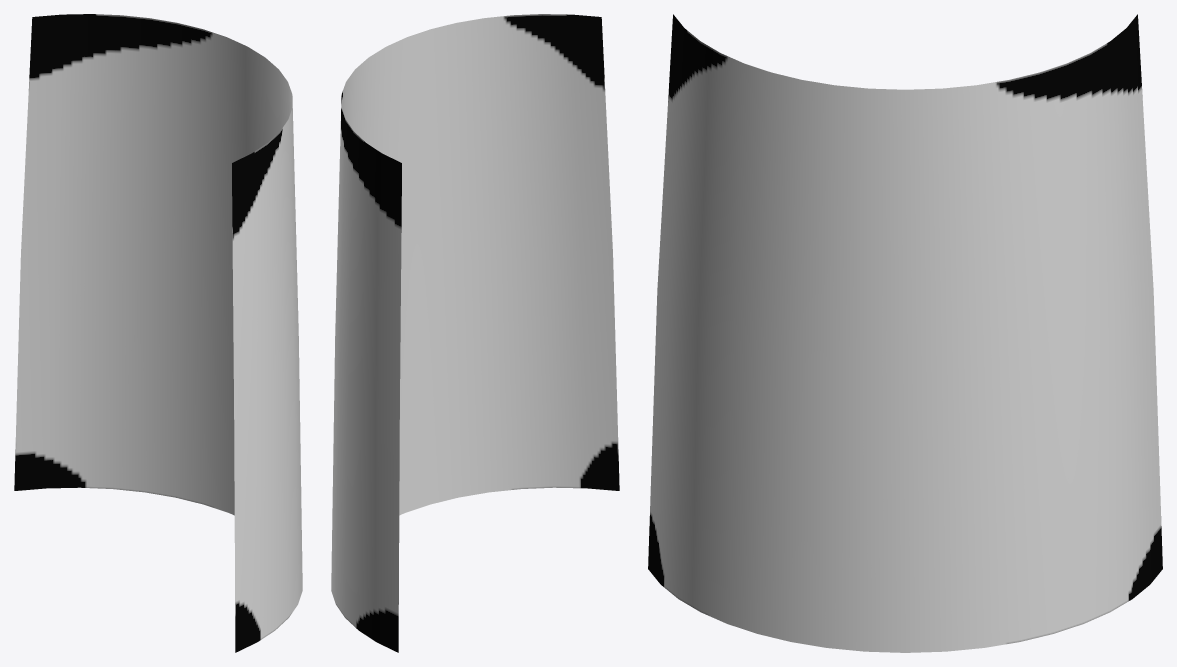
Rendered from fuchen_xiang_0624_hh.FBX.
3 views of the same model, side by side, from view 1: azimuth 30°, elevation 25°; view 2: azimuth 150°, elevation 25°; view 3: azimuth 270°, elevation 25° (orthographic). The views are drawn at different scales.
Visible parts, largest first — view 1: fuchen_xiang_0624_hh; view 2: fuchen_xiang_0624_hh; view 3: fuchen_xiang_0624_hh.
Part boxes in pixels (x1,y1,x2,y2): fuchen_xiang_0624_hh: (14, 14, 302, 652); fuchen_xiang_0624_hh: (331, 14, 619, 652); fuchen_xiang_0624_hh: (648, 14, 1162, 652).
Bounding box in the file's own units: 0.8482 × 2.63 × 2.2.
